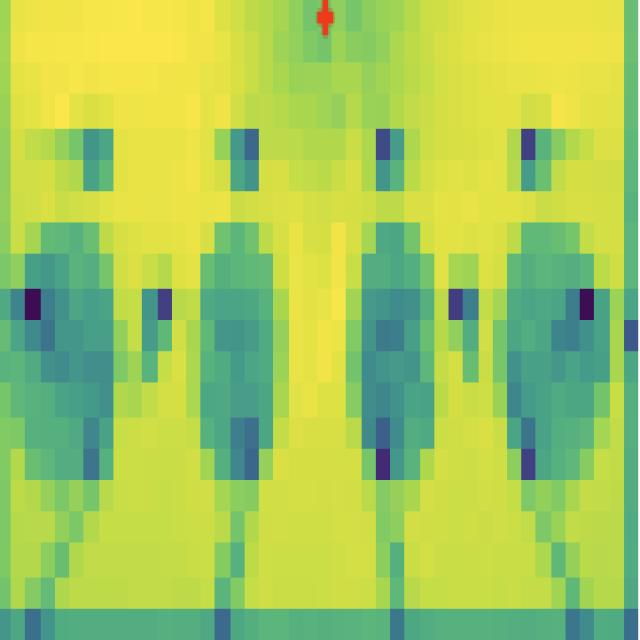Concrete: (174, 222, 298, 512)
Glass: (15, 214, 142, 528)
Metal: (341, 209, 450, 518)
Wood: (495, 216, 616, 533)
